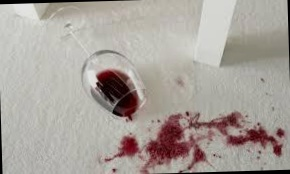wine: (113, 107, 204, 174), (209, 106, 284, 159)
